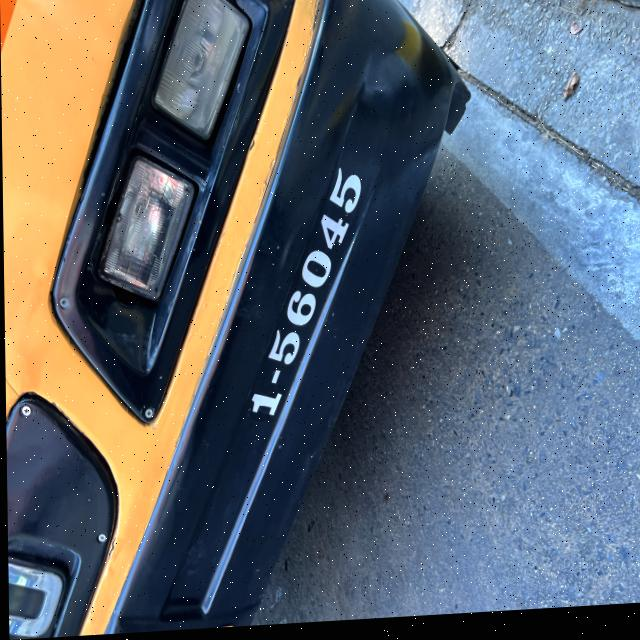BMTA-bus: (4, 0, 478, 638)
Bus Side Number: (236, 149, 374, 441)
